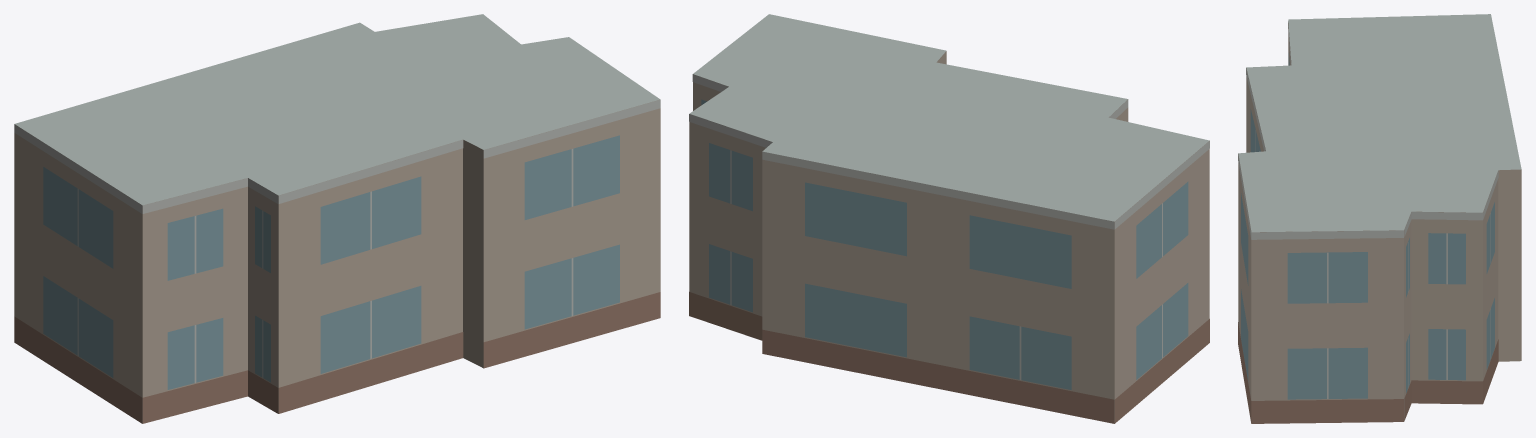
File: survey-upis-32986313.glb
The picture shows the model from 3 angles, left to right: view 1: azimuth 30°, elevation 25°; view 2: azimuth 150°, elevation 25°; view 3: azimuth 270°, elevation 25°; orthographic projection. The views are drawn at different scales.
Visible parts, largest first — view 1: survey-upis-32986313.tmp; view 2: survey-upis-32986313.tmp; view 3: survey-upis-32986313.tmp.
Boxes of the visible parts, x1,y1,x2,y2 form: survey-upis-32986313.tmp: [14, 14, 660, 423]; survey-upis-32986313.tmp: [689, 14, 1209, 423]; survey-upis-32986313.tmp: [1238, 14, 1521, 423].
Bounding box in the file's own units: 14.91 × 6.1 × 8.18.
